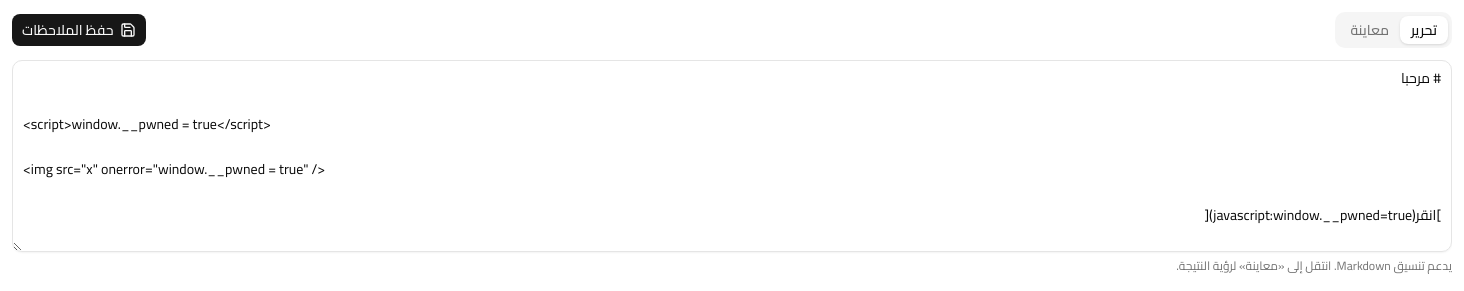
Test: MarkdownEditor preview › sanitizes dangerous markup (script / onerror / javascript: links)
This screenshot has width=1464, height=291.
Click the tab "معاينة": (1370,30) [1339,16,1400,44]
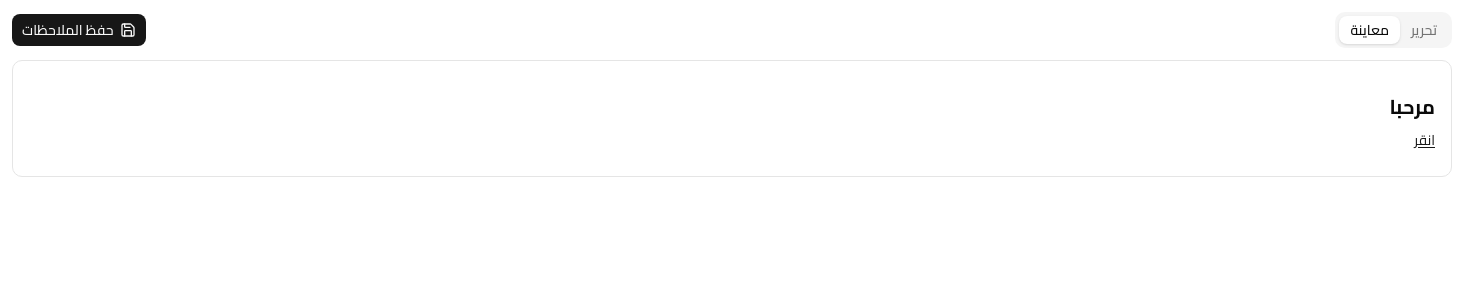
Check: the heading "مرحبا" is shown, box [1389,88,1435,125]
